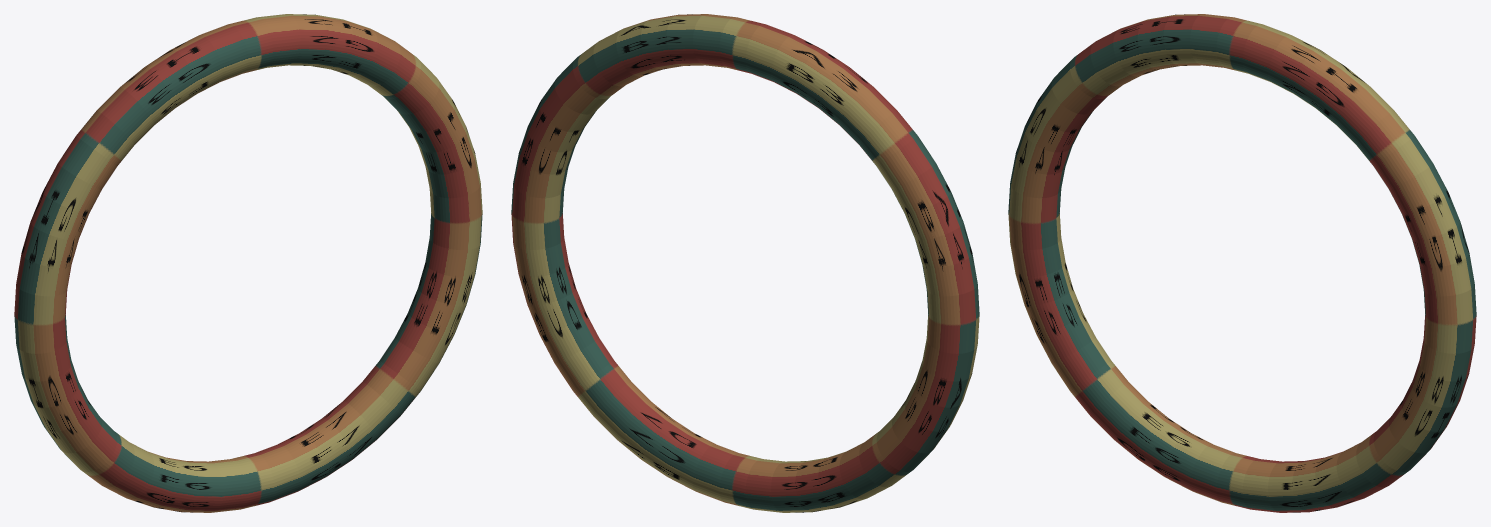
Rendered from texture_torus_R28_r4.glb.
3 renders of one model, left to right at view 1: azimuth 30°, elevation 25°; view 2: azimuth 150°, elevation 25°; view 3: azimuth 330°, elevation 25°, orthographic.
Parts seen in each view (by area): view 1: world; view 2: world; view 3: world.
Part boxes in pixels (x1,y1,x2,y2): world: [14, 14, 482, 512]; world: [511, 14, 979, 512]; world: [1008, 14, 1476, 512].
Bounding box in the file's own units: 31.73 × 31.67 × 3.06.
1 material, 1 textured.
